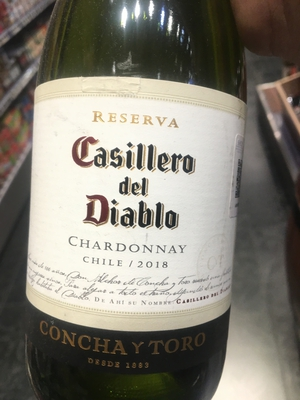casillero del diablo chardonnay: (28, 23, 252, 400)
